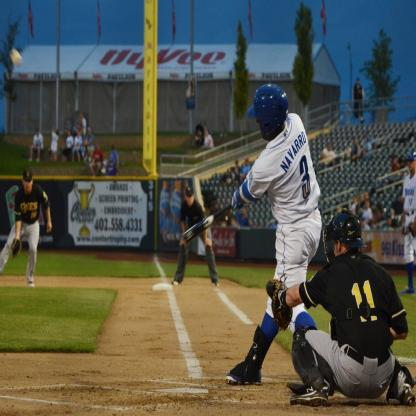Helmet: (247, 82, 290, 140), (320, 210, 364, 259)
